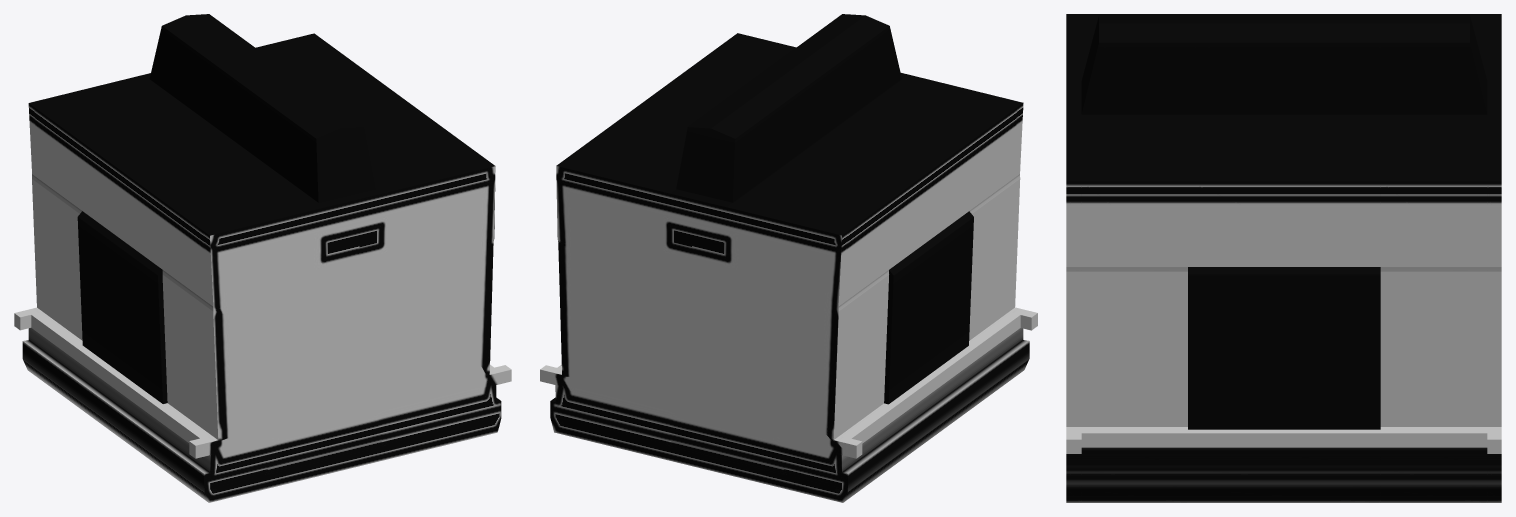
The model's file is coolingUnit.fbx.
3 views of the same model, side by side, from view 1: azimuth 30°, elevation 25°; view 2: azimuth 150°, elevation 25°; view 3: azimuth 270°, elevation 25° (orthographic). The views are drawn at different scales.
Parts seen in each view (by area): view 1: CoolingUnit; view 2: CoolingUnit; view 3: CoolingUnit.
Part boxes in pixels (x1,y1,x2,y2): CoolingUnit: (14,14,511,502); CoolingUnit: (540,14,1037,502); CoolingUnit: (1066,14,1501,502).
Bounding box in the file's own units: 71.79 × 71.4 × 71.28.
